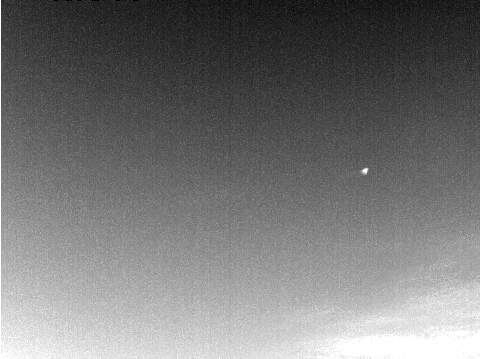dim target: (359, 167, 369, 175)
